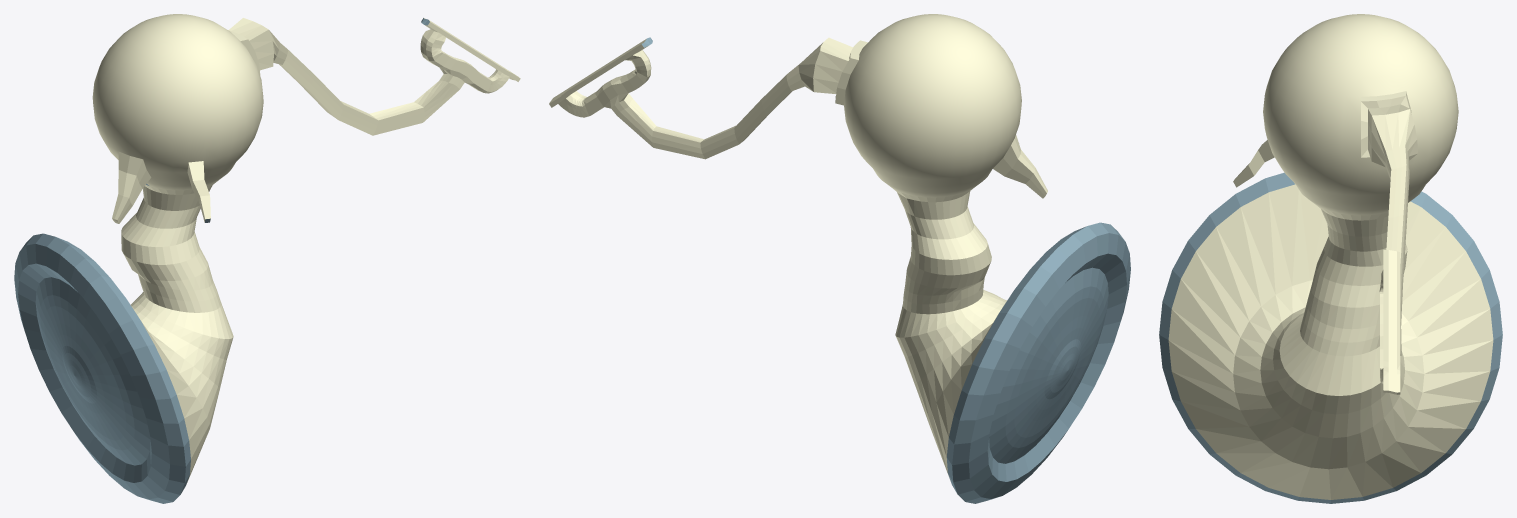
File: Drum Model.FBX
3 views of the same model, side by side, from view 1: azimuth 30°, elevation 25°; view 2: azimuth 150°, elevation 25°; view 3: azimuth 270°, elevation 25° (orthographic). The views are drawn at different scales.
Visible parts, largest first — view 1: Drum; view 2: Drum; view 3: Drum.
Part boxes in pixels (left/top/right/bottom): Drum: left=14, top=14, right=520, bottom=503; Drum: left=549, top=14, right=1130, bottom=503; Drum: left=1159, top=14, right=1502, bottom=503.
Size of the model in its own units: 7461 by 6561 by 4000.
2 materials, 2 textured.
